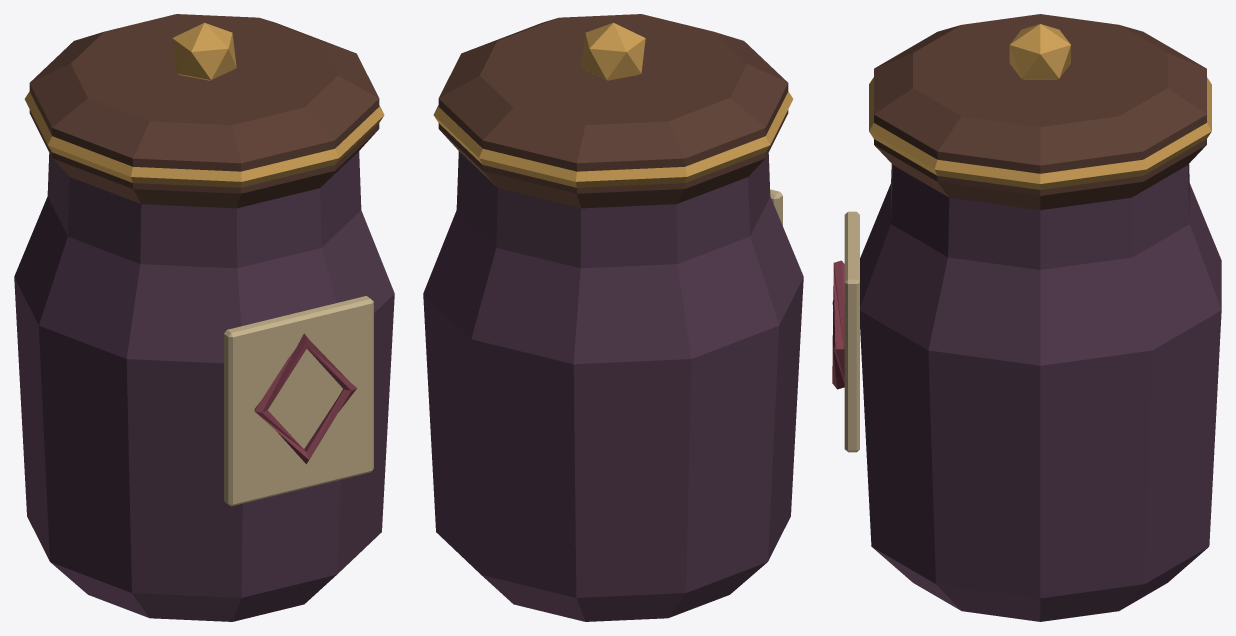
The model's file is ingredient_jar.glb.
3 renders of one model, left to right at view 1: azimuth 30°, elevation 25°; view 2: azimuth 150°, elevation 25°; view 3: azimuth 270°, elevation 25°, orthographic.
Parts seen in each view (by area): view 1: SM_Magic_IngredientJar; view 2: SM_Magic_IngredientJar; view 3: SM_Magic_IngredientJar.
Part boxes in pixels (x1,y1,x2,y2): SM_Magic_IngredientJar: [14, 14, 394, 621]; SM_Magic_IngredientJar: [423, 14, 803, 621]; SM_Magic_IngredientJar: [832, 14, 1221, 621].
Size of the model in its own units: 0.148 by 0.232 by 0.1512.
Materials: 2 (2 with a texture image).
